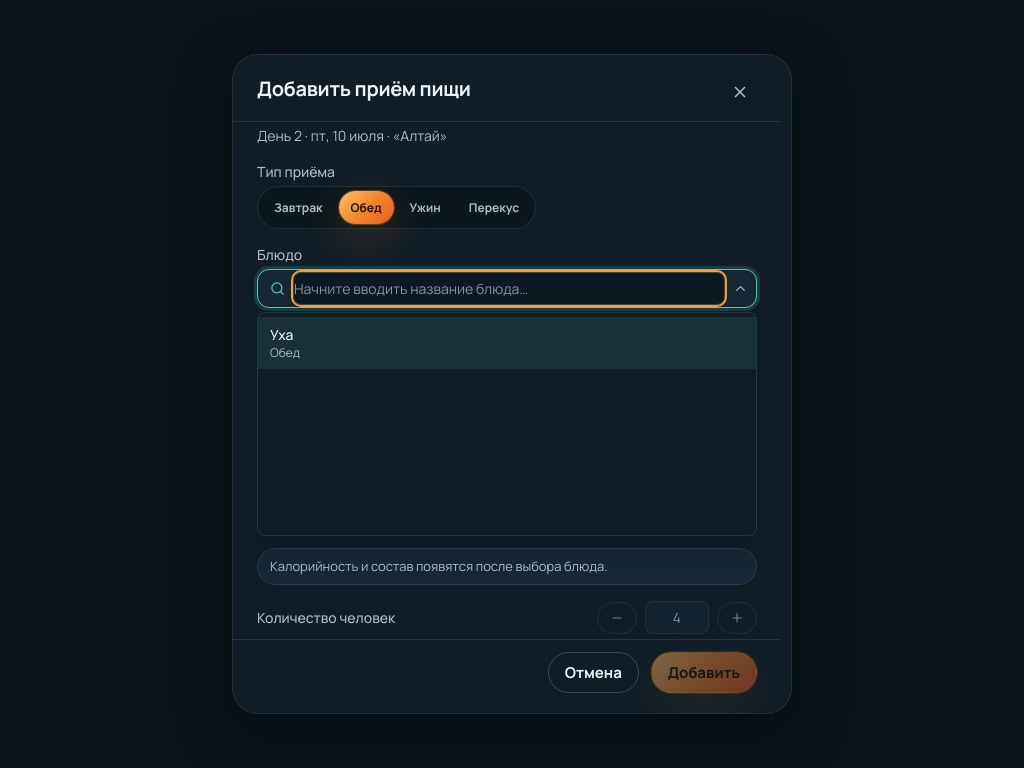
Scenario: AddMealModal — постоянный размер формы (Fix-8 п.4) › выбор блюда: превью рендерится ВНУТРИ того же слота — высота модалки не меняется
What coordinates should you click on to do the following:
click the option "Уха Обед"
I would click on:
 (282, 334)
Its box is [258,317,756,369].
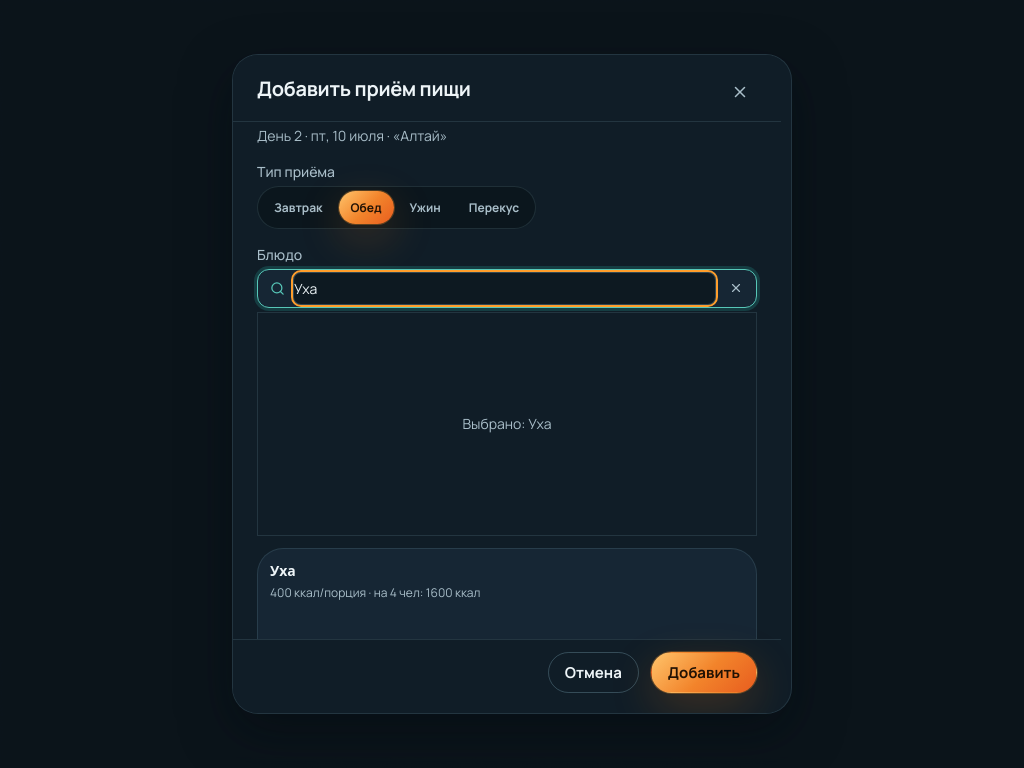
Expected: the element with test id "meal-preview" shows "Уха", [270,561,296,580]
